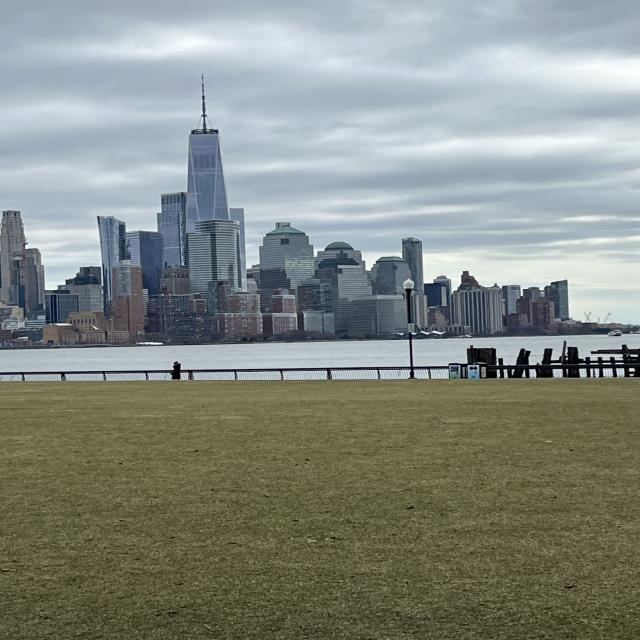WTC: (185, 76, 230, 224)
